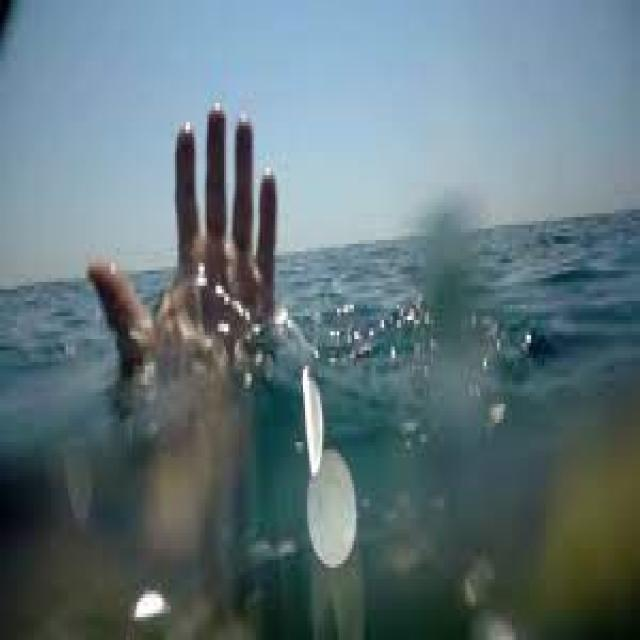swimming: (72, 86, 308, 524)
